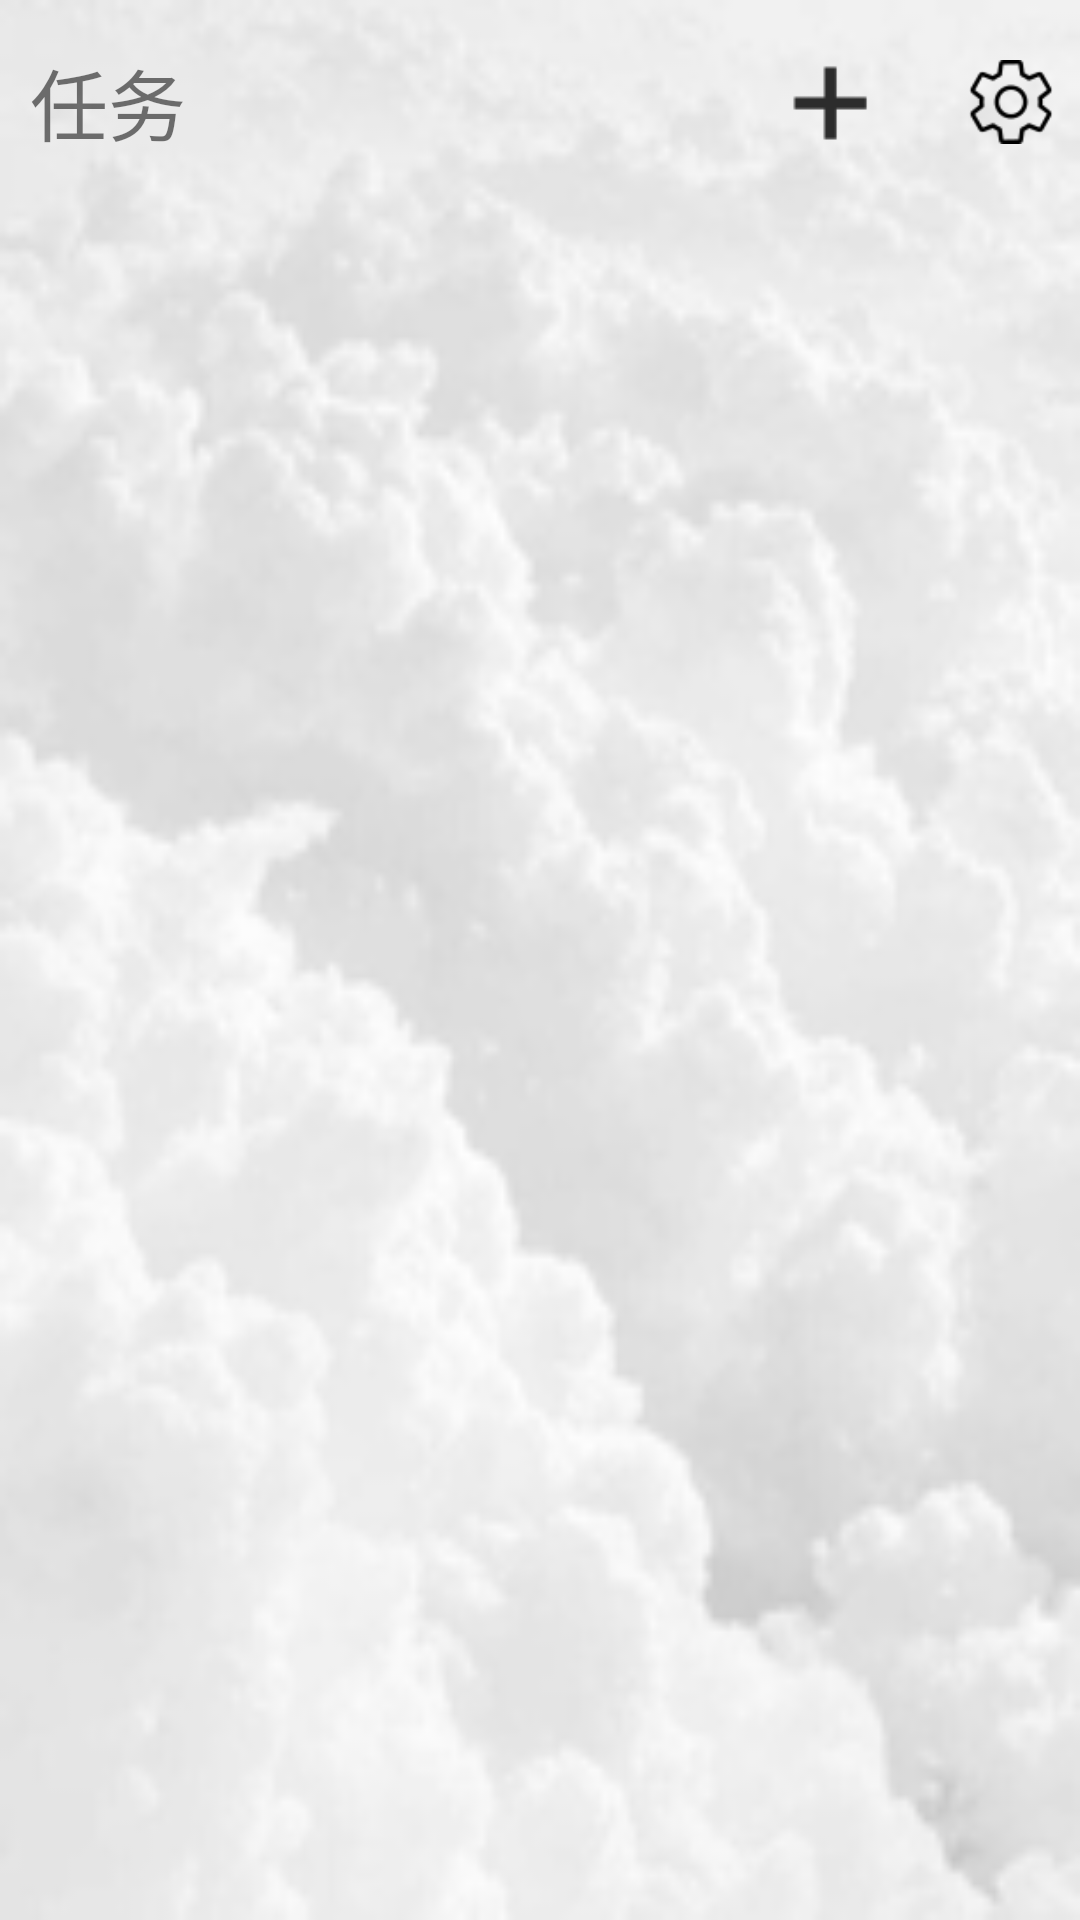

Named icons in this screenshot (1080 × 1920) and their centers, (x,y):
setup: (1011,102)
